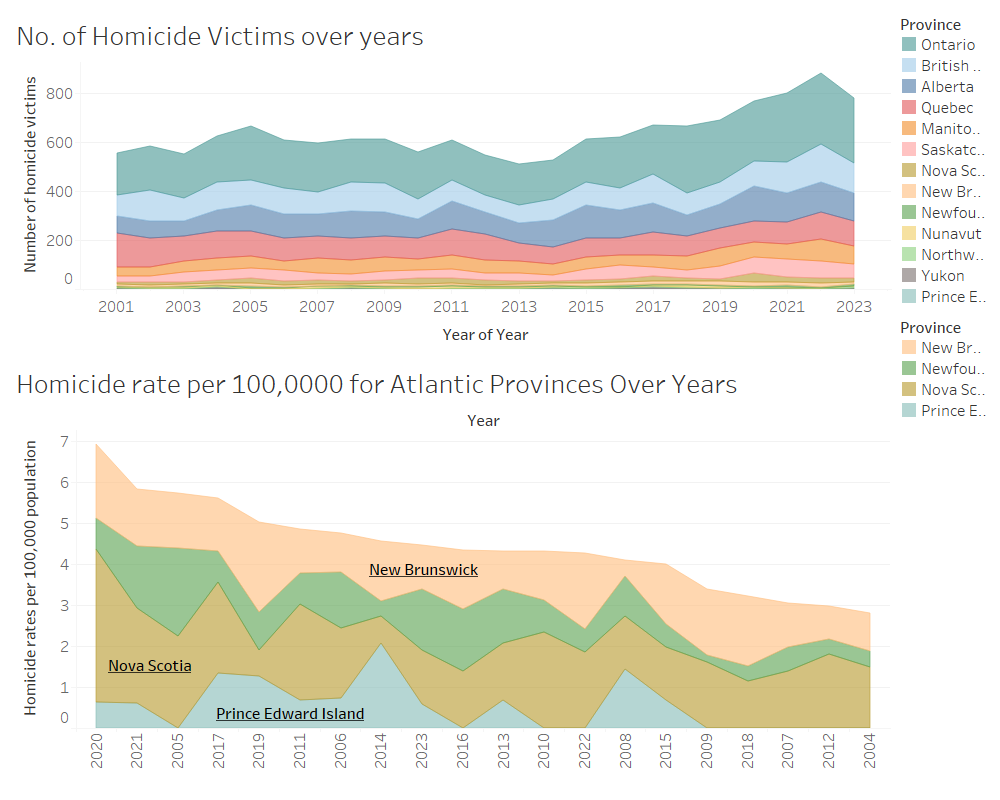

What the dashboard file says about the page in this screenshot:
{"tool":"tableau","page":{"name":"Homicide Trends in Canada","canvas":[1000,800],"ordinal":1},"visuals":[{"type":"worksheet","title":"No. of Homicide Victims over years","mark":"Area","rows":["Number of homicide victims"],"cols":["REF_DATE"],"box":[8,8,887,348]},{"type":"legend","title":"No. of Homicide Victims over years","param":"[federated.1f7q9ot1x0floh120qtl00fndhqs].[none:GEO:nk]","box":[895,8,97,303]},{"type":"legend","title":"Homicide rate per 100,0000 for Atlantic Provinces Over Years","param":"[federated.1f7q9ot1x0floh120qtl00fndhqs].[none:GEO:nk]","box":[895,311,97,114]},{"type":"worksheet","title":"Homicide rate per 100,0000 for Atlantic Provinces Over Years","mark":"Area","rows":["Homicide rates per 100,000 population"],"cols":["REF_DATE"],"box":[8,356,887,436]}]}

Visuals, with their boxes in screenshot pixels (x1, y1, x2, y2), scaled from the page's 1000x800 canvas onto the 1000x800 screenshot:
"No. of Homicide Victims over years" worksheet (Area marks): [left=8, top=8, right=895, bottom=356]
"No. of Homicide Victims over years" legend: [left=895, top=8, right=992, bottom=311]
"Homicide rate per 100,0000 for Atlantic Provinces Over Years" legend: [left=895, top=311, right=992, bottom=425]
"Homicide rate per 100,0000 for Atlantic Provinces Over Years" worksheet (Area marks): [left=8, top=356, right=895, bottom=792]
